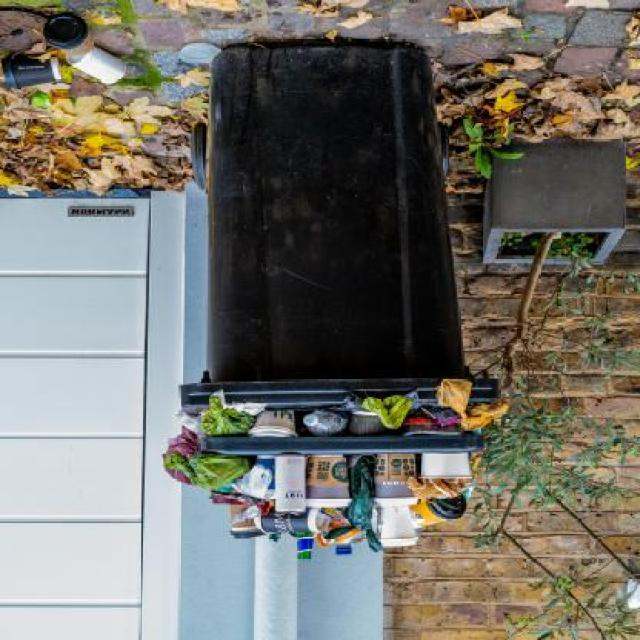garbage container: (168, 27, 517, 424)
